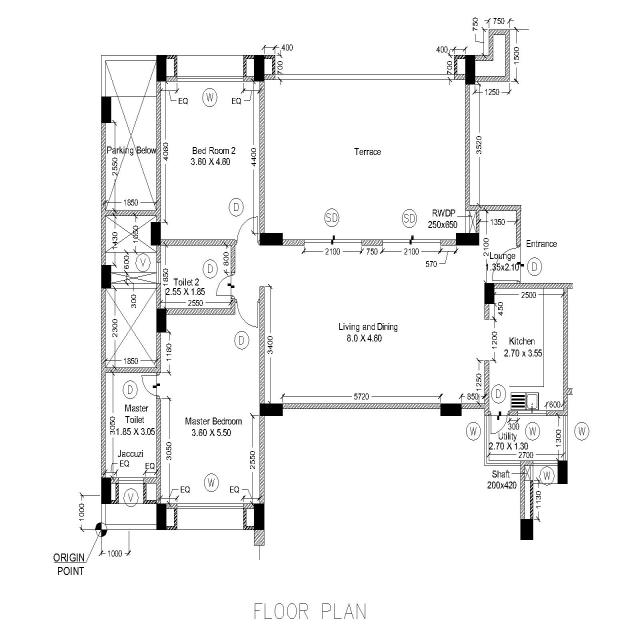Column: (154, 501, 168, 533), (99, 474, 113, 506), (454, 231, 480, 248), (258, 231, 285, 247), (252, 502, 266, 532), (258, 402, 284, 418), (464, 52, 476, 86), (253, 53, 266, 83), (155, 53, 168, 83), (518, 518, 534, 542), (100, 95, 112, 125), (440, 402, 462, 418), (155, 307, 168, 334), (150, 219, 162, 247), (100, 263, 112, 291), (483, 281, 497, 305), (557, 458, 569, 485)
Door: (230, 272, 236, 298), (516, 245, 520, 283), (236, 239, 260, 245), (488, 410, 510, 416), (236, 298, 260, 303), (156, 372, 160, 398)
Opening: (259, 243, 265, 288), (484, 317, 488, 363)
Sliding Door: (382, 237, 442, 245), (301, 239, 363, 246)
Ventilator: (118, 477, 144, 483), (156, 258, 161, 285)
Window: (483, 414, 521, 466), (174, 75, 246, 83), (560, 415, 570, 459), (177, 503, 244, 507), (531, 460, 558, 468)
